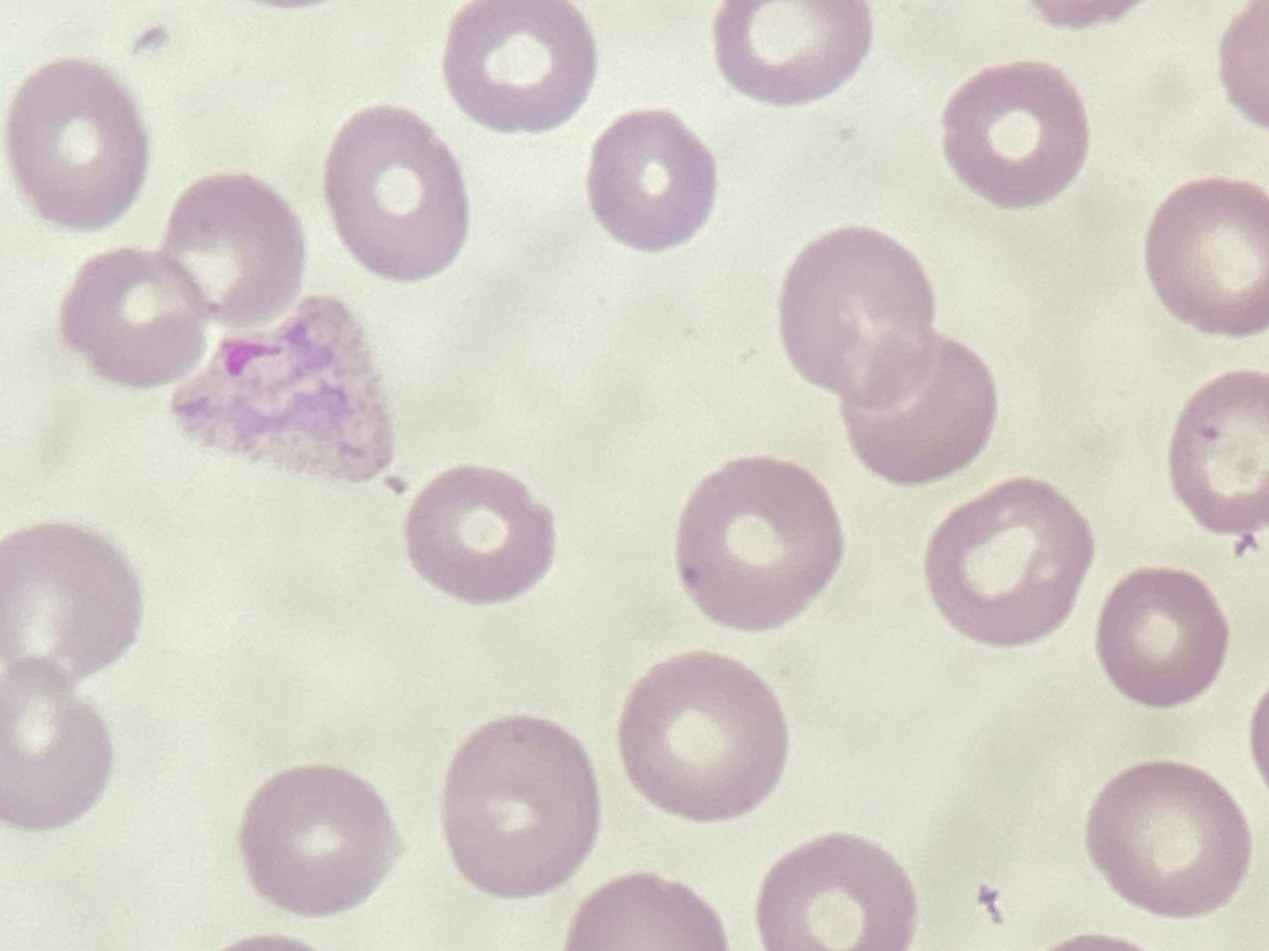Infected: (169, 291, 397, 485)
Uninfected: (677, 456, 845, 634), (441, 712, 601, 898), (924, 478, 1094, 647), (620, 651, 788, 820), (778, 227, 934, 405), (324, 106, 470, 283), (838, 323, 993, 487), (238, 764, 400, 919), (1087, 765, 1251, 917), (10, 60, 149, 231), (0, 527, 147, 686), (942, 63, 1095, 213), (164, 171, 307, 328), (59, 250, 212, 388), (443, 0, 597, 135), (406, 463, 553, 604), (1147, 177, 1269, 339), (585, 106, 716, 251), (757, 835, 918, 951), (0, 664, 107, 836), (1100, 569, 1227, 708), (709, 0, 872, 107), (1170, 374, 1269, 538)
